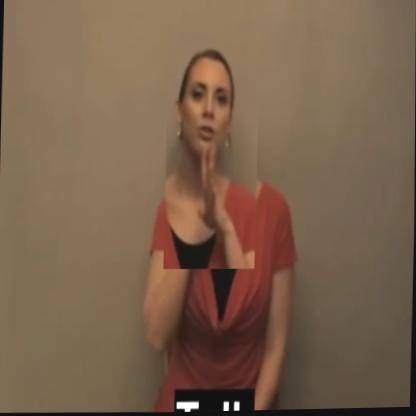Talk: (163, 31, 260, 271)
